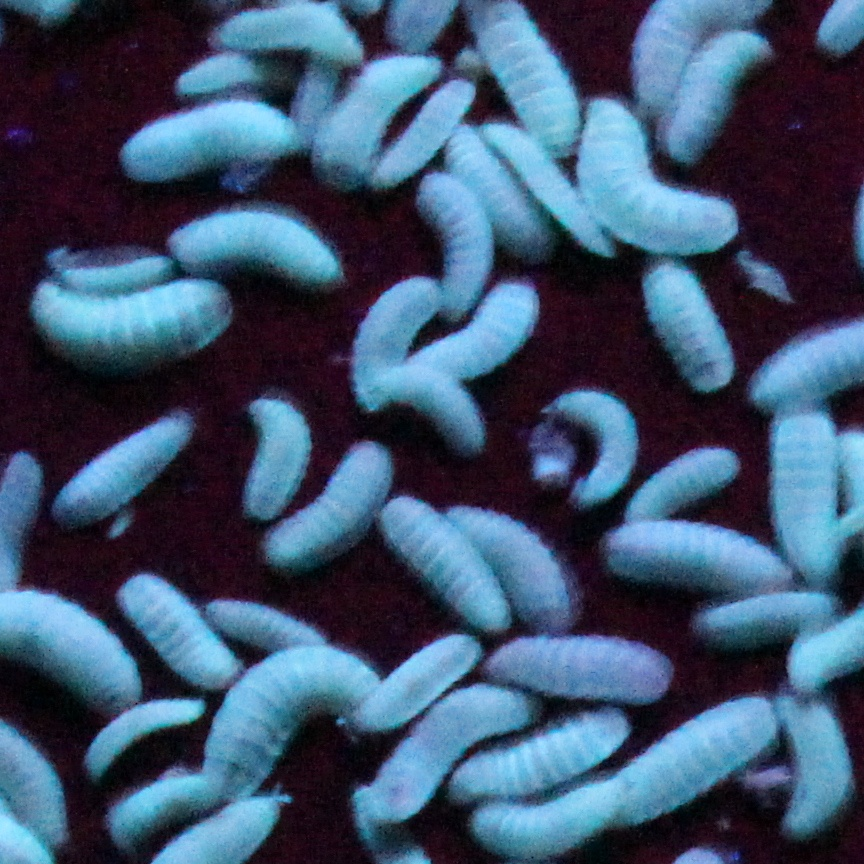larve: (203, 651, 385, 797), (351, 685, 535, 817), (588, 101, 735, 256), (372, 483, 506, 631), (624, 699, 772, 828), (481, 124, 619, 260), (435, 713, 628, 803), (28, 272, 238, 353), (56, 413, 199, 528), (653, 26, 769, 160), (401, 274, 544, 378), (317, 58, 447, 169), (449, 506, 572, 622), (163, 206, 347, 283), (122, 99, 294, 181), (263, 447, 390, 558), (774, 681, 860, 842), (113, 567, 231, 681), (767, 410, 847, 578), (497, 628, 674, 701), (442, 119, 538, 251), (358, 631, 483, 728), (613, 517, 788, 585), (410, 174, 490, 322), (347, 278, 433, 415), (463, 783, 635, 851), (647, 251, 726, 397), (551, 390, 638, 510), (381, 76, 465, 190), (363, 363, 478, 444), (88, 694, 206, 769), (242, 388, 310, 517), (626, 442, 742, 510), (106, 774, 213, 842), (215, 590, 326, 653), (710, 585, 849, 628), (44, 247, 167, 294), (169, 53, 265, 94)
